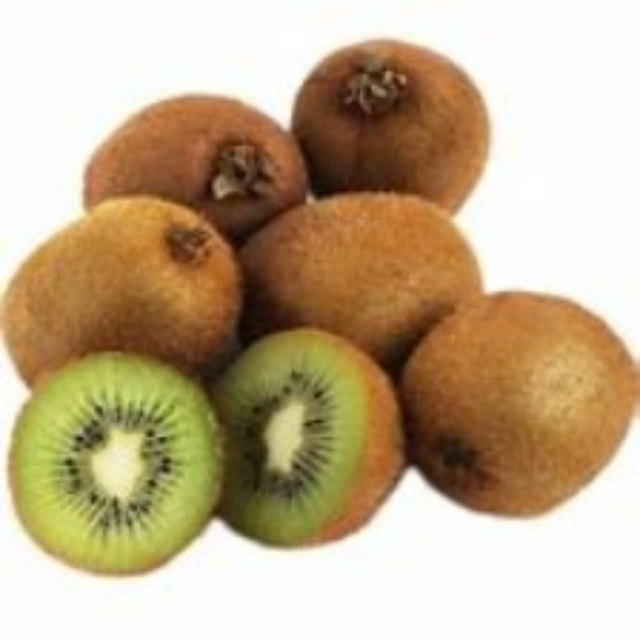kiwi: (406, 279, 639, 518), (5, 347, 225, 580), (204, 318, 409, 559), (9, 194, 244, 386), (239, 176, 488, 345), (278, 40, 509, 215), (86, 94, 314, 252)
